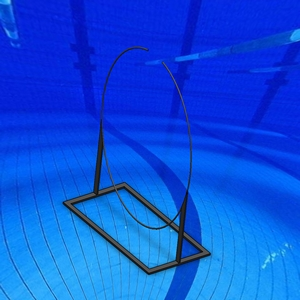circle: (62, 44, 213, 275)
